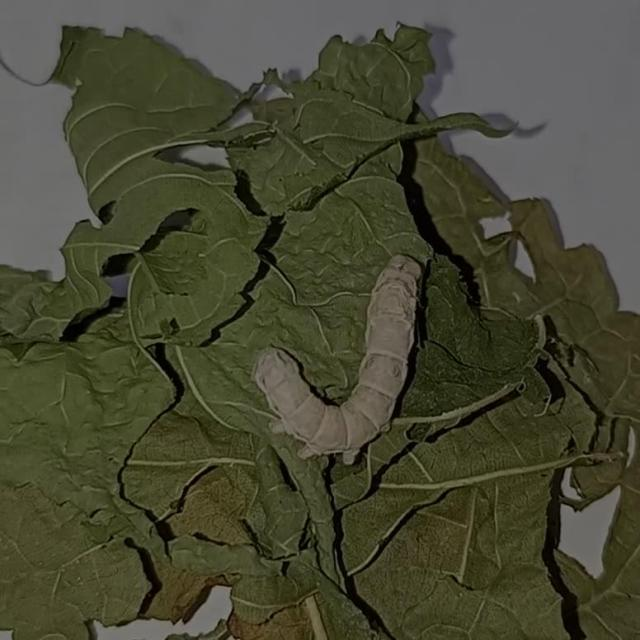Healthy: (243, 241, 437, 484)
